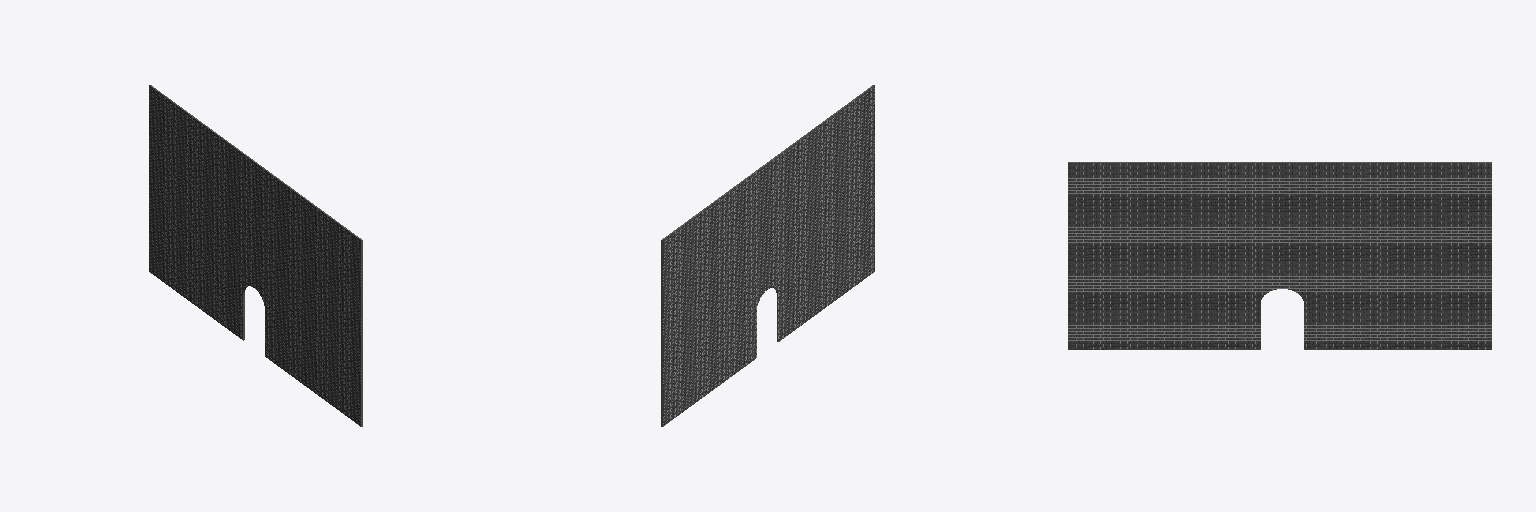
3 views of the same model, side by side, from view 1: azimuth 30°, elevation 25°; view 2: azimuth 150°, elevation 25°; view 3: azimuth 270°, elevation 25° (orthographic).
Visible parts, largest first — view 1: 壁_立方体_立方体.008; view 2: 壁_立方体_立方体.008; view 3: 壁_立方体_立方体.008.
Boxes of the visible parts, x1,y1,x2,y2 form: 壁_立方体_立方体.008: [149, 85, 362, 426]; 壁_立方体_立方体.008: [661, 85, 874, 426]; 壁_立方体_立方体.008: [1068, 162, 1491, 349].
Size of the model in its own units: 0.1 by 12.59 by 25.89.
Materials: 1 (1 with a texture image).